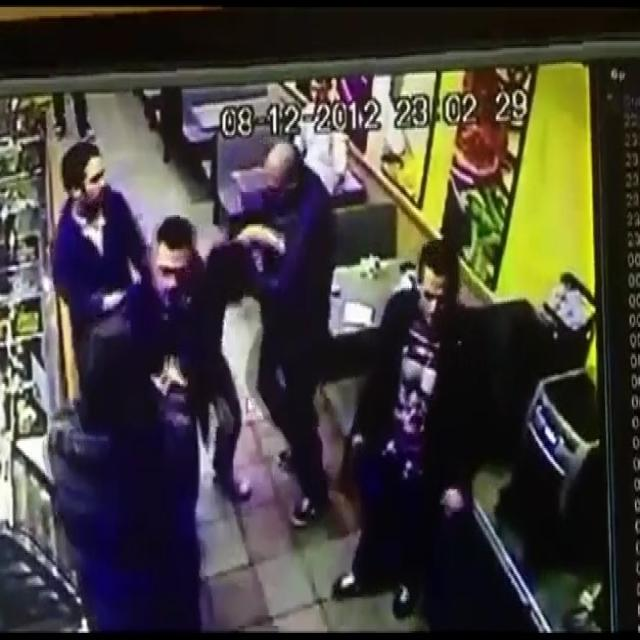fight: (43, 213, 215, 640)
